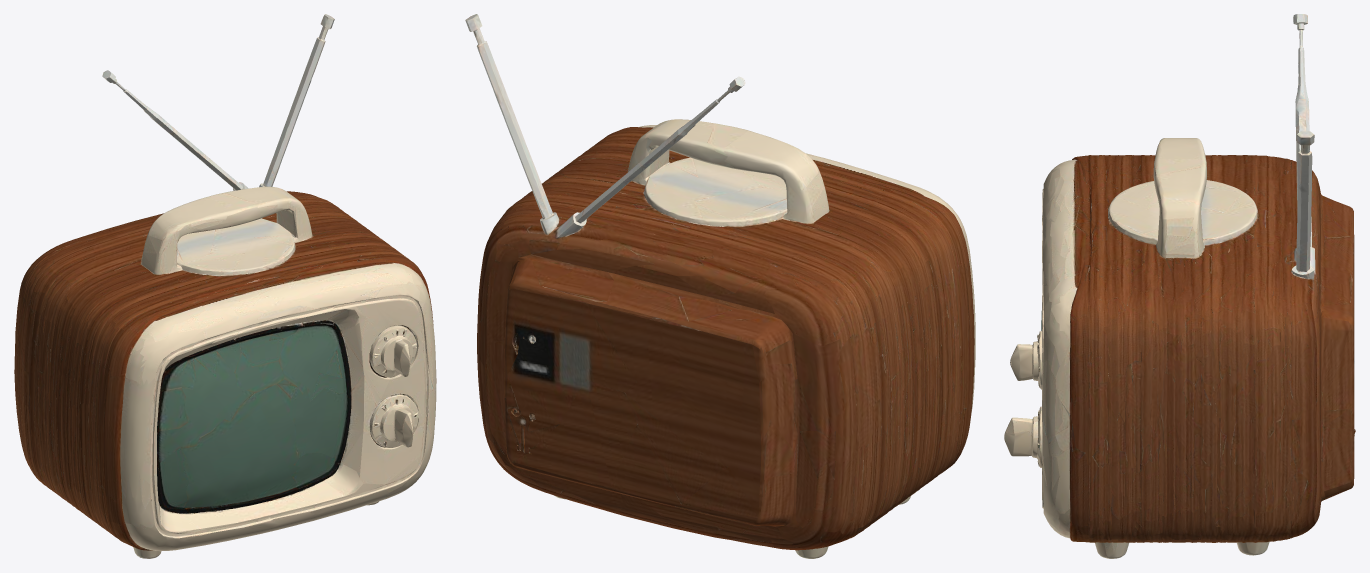
File: portable.glb
The picture shows the model from 3 angles, left to right: view 1: azimuth 30°, elevation 25°; view 2: azimuth 150°, elevation 25°; view 3: azimuth 270°, elevation 25°; orthographic projection. The views are drawn at different scales.
Bounding box in the file's own units: 1.59 × 1.9 × 1.35.
1 material, 1 textured.
